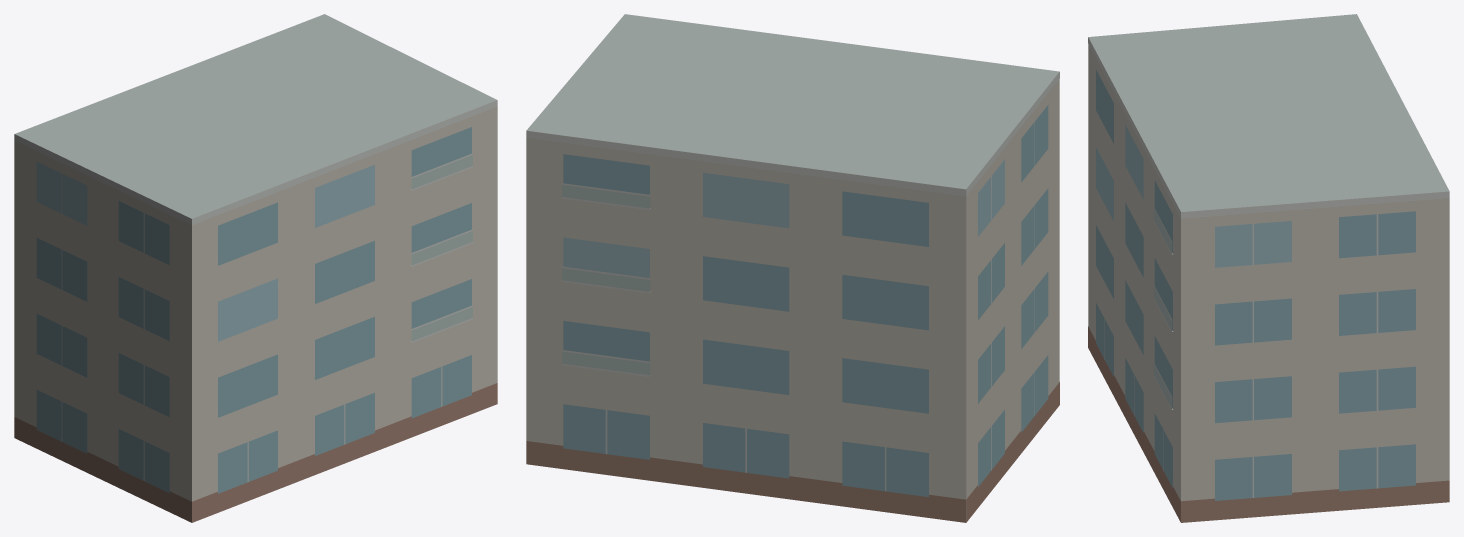
Rendered from survey-upis-32495445.glb.
3 renders of one model, left to right at view 1: azimuth 30°, elevation 25°; view 2: azimuth 150°, elevation 25°; view 3: azimuth 270°, elevation 25°, orthographic. The views are drawn at different scales.
Visible parts, largest first — view 1: survey-upis-32495445.tmp; view 2: survey-upis-32495445.tmp; view 3: survey-upis-32495445.tmp.
Boxes of the visible parts, left/top/right/bottom form: survey-upis-32495445.tmp: left=14, top=14, right=497, bottom=522; survey-upis-32495445.tmp: left=526, top=14, right=1059, bottom=522; survey-upis-32495445.tmp: left=1088, top=14, right=1449, bottom=522.
Size of the model in its own units: 15.87 by 11.6 by 12.24.
